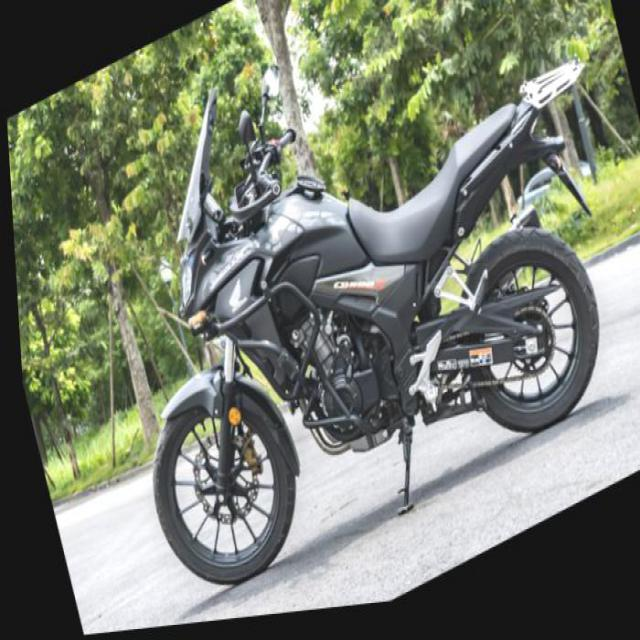CB500X: (60, 0, 639, 629)
